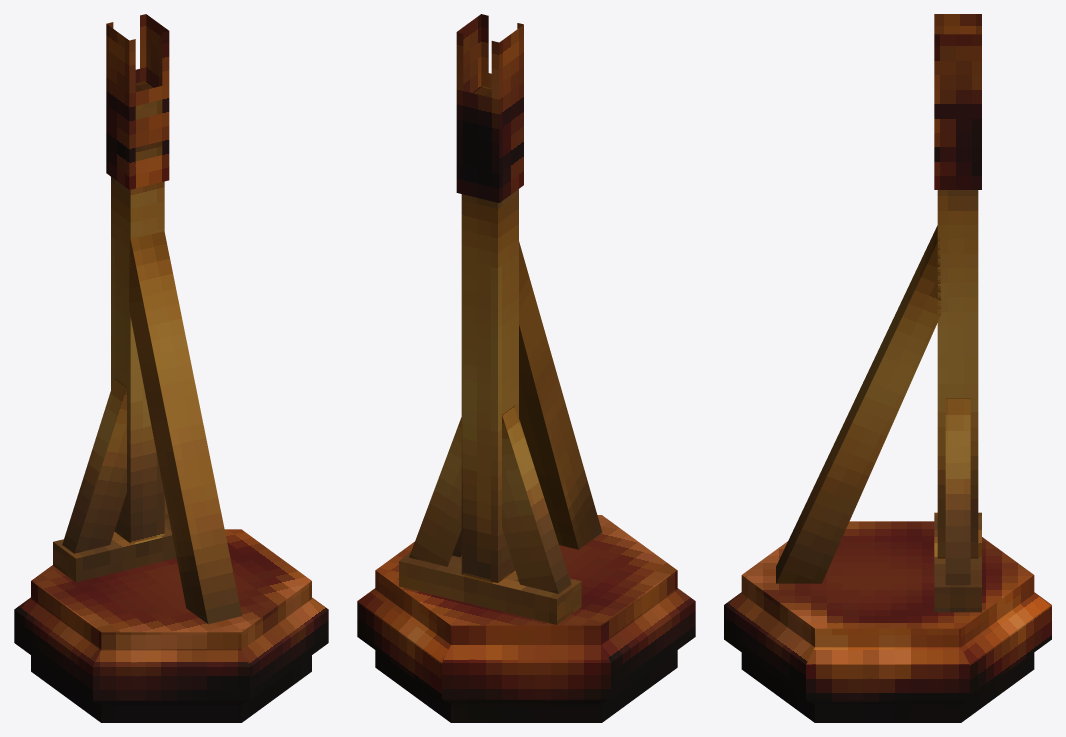
File: aventine_tower_wood_bronze_yaw_pivot.glb
3 renders of one model, left to right at view 1: azimuth 30°, elevation 25°; view 2: azimuth 150°, elevation 25°; view 3: azimuth 270°, elevation 25°, orthographic. The views are drawn at different scales.
Visible parts, largest first — view 1: Cube.001, Cube, Cube.003; view 2: Cube.001, Cube, Cube.003; view 3: Cube, Cube.001, Cube.003.
Boxes of the visible parts, left/top/right/bottom form: Cube.001: left=53, top=14, right=241, bottom=624; Cube: left=14, top=529, right=328, bottom=722; Cube.003: left=62, top=378, right=168, bottom=553; Cube.001: left=399, top=14, right=602, bottom=624; Cube: left=357, top=515, right=695, bottom=722; Cube.003: left=409, top=405, right=571, bottom=593; Cube: left=724, top=521, right=1051, bottom=722; Cube.001: left=776, top=14, right=981, bottom=612; Cube.003: left=945, top=398, right=970, bottom=585.
Bounding box in the file's own units: 0.5571 × 1.4 × 0.6433.
Materials: 3 (3 with a texture image).
